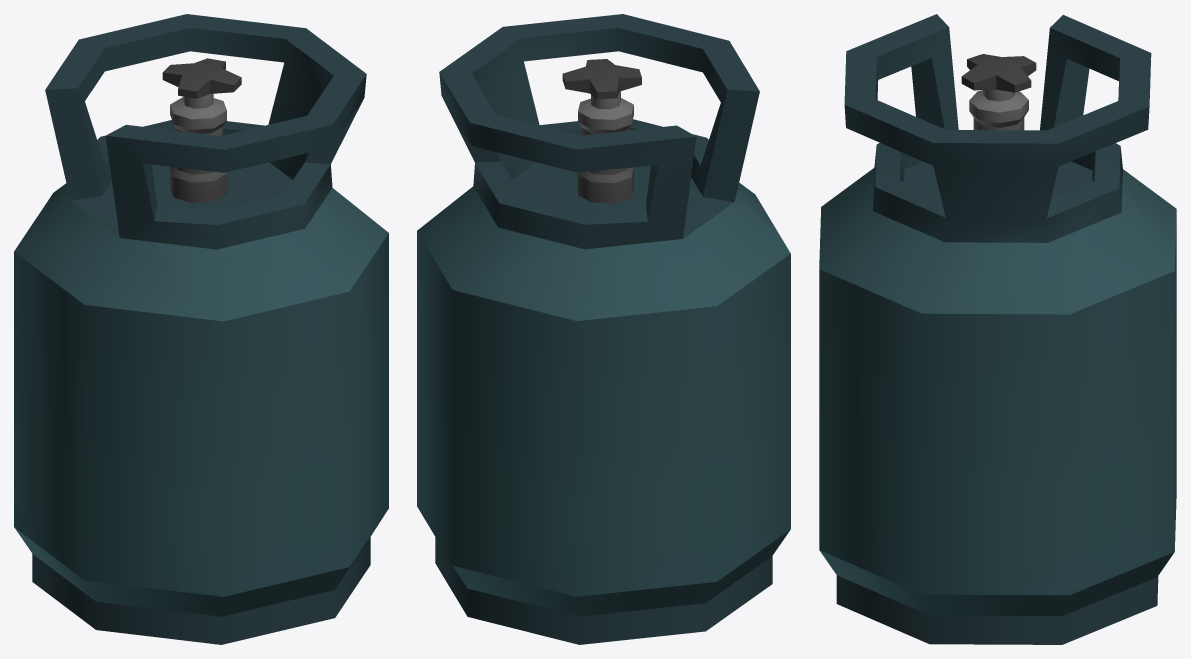
The model's file is GasCylinder_2_1.fbx.
The picture shows the model from 3 angles, left to right: view 1: azimuth 30°, elevation 25°; view 2: azimuth 150°, elevation 25°; view 3: azimuth 270°, elevation 25°; orthographic projection.
Visible parts, largest first — view 1: GasCylinder_2_1; view 2: GasCylinder_2_1; view 3: GasCylinder_2_1.
Part boxes in pixels (x1,y1,x2,y2): GasCylinder_2_1: (14, 14, 388, 644); GasCylinder_2_1: (417, 14, 790, 644); GasCylinder_2_1: (819, 14, 1176, 644).
Bounding box in the file's own units: 38.47 × 60.7 × 38.47.
